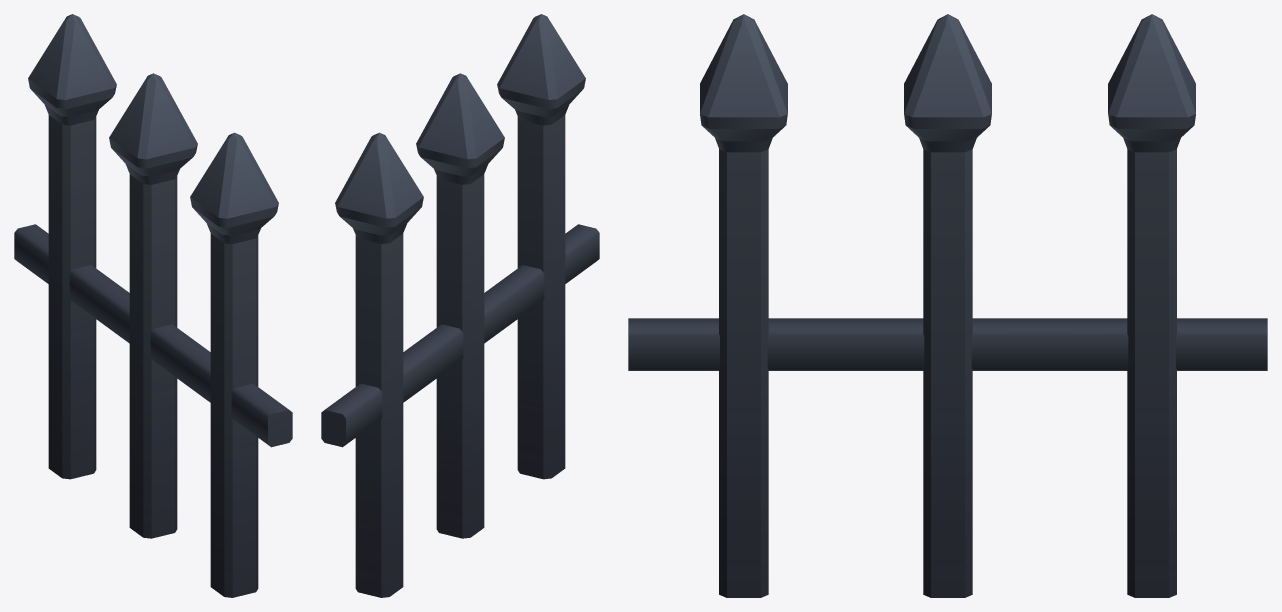
File: Fence_1_2.obj
3 views of the same model, side by side, from view 1: azimuth 30°, elevation 25°; view 2: azimuth 150°, elevation 25°; view 3: azimuth 270°, elevation 25° (orthographic). The views are drawn at different scales.
Parts seen in each view (by area): view 1: Fence_1_2; view 2: Fence_1_2; view 3: Fence_1_2.
Boxes of the visible parts, left/top/right/bottom form: Fence_1_2: left=14, top=14, right=292, bottom=597; Fence_1_2: left=321, top=14, right=599, bottom=597; Fence_1_2: left=628, top=14, right=1267, bottom=597.
Bounding box in the file's own units: 0.1342 × 0.965 × 0.9745.
